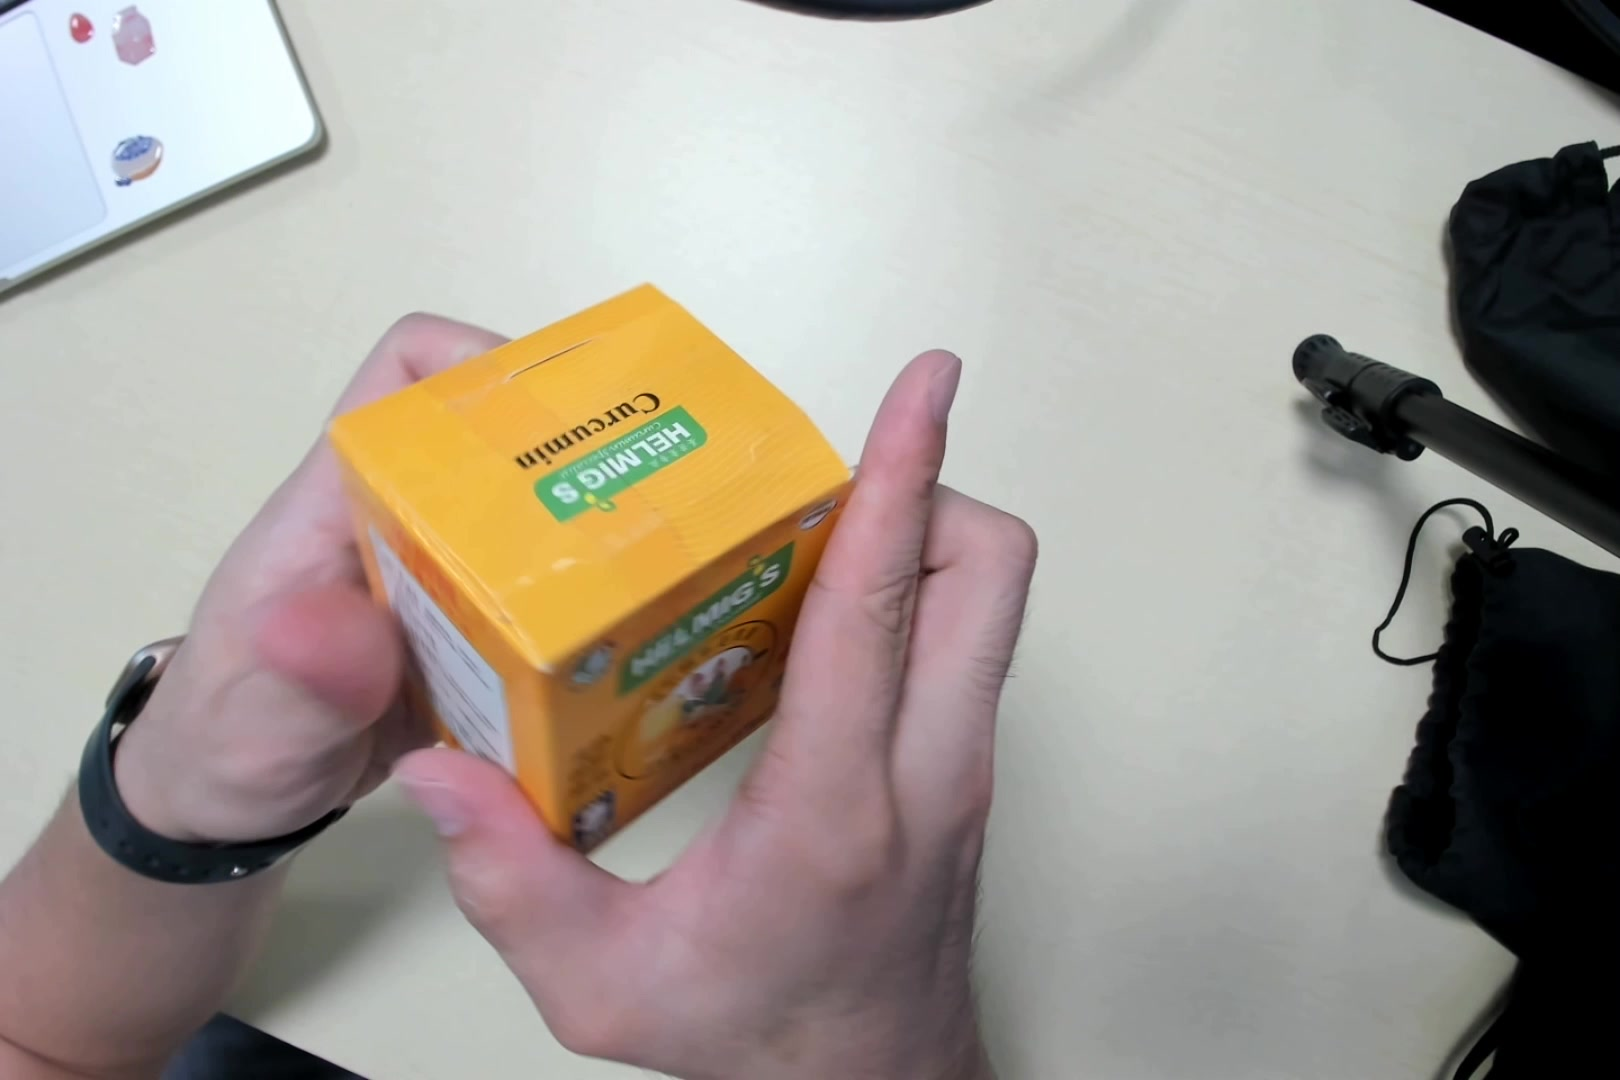OtherHotBeverages(Powder)_0-99g_Halal_NonHealthy: (344, 284, 837, 850)
